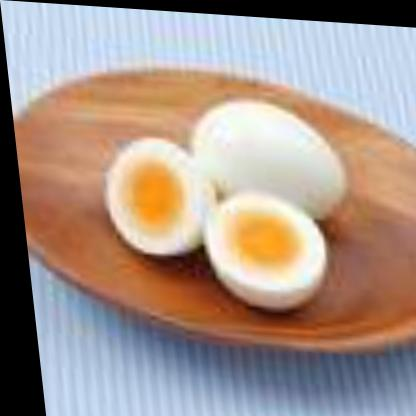egg: (185, 90, 349, 214)
